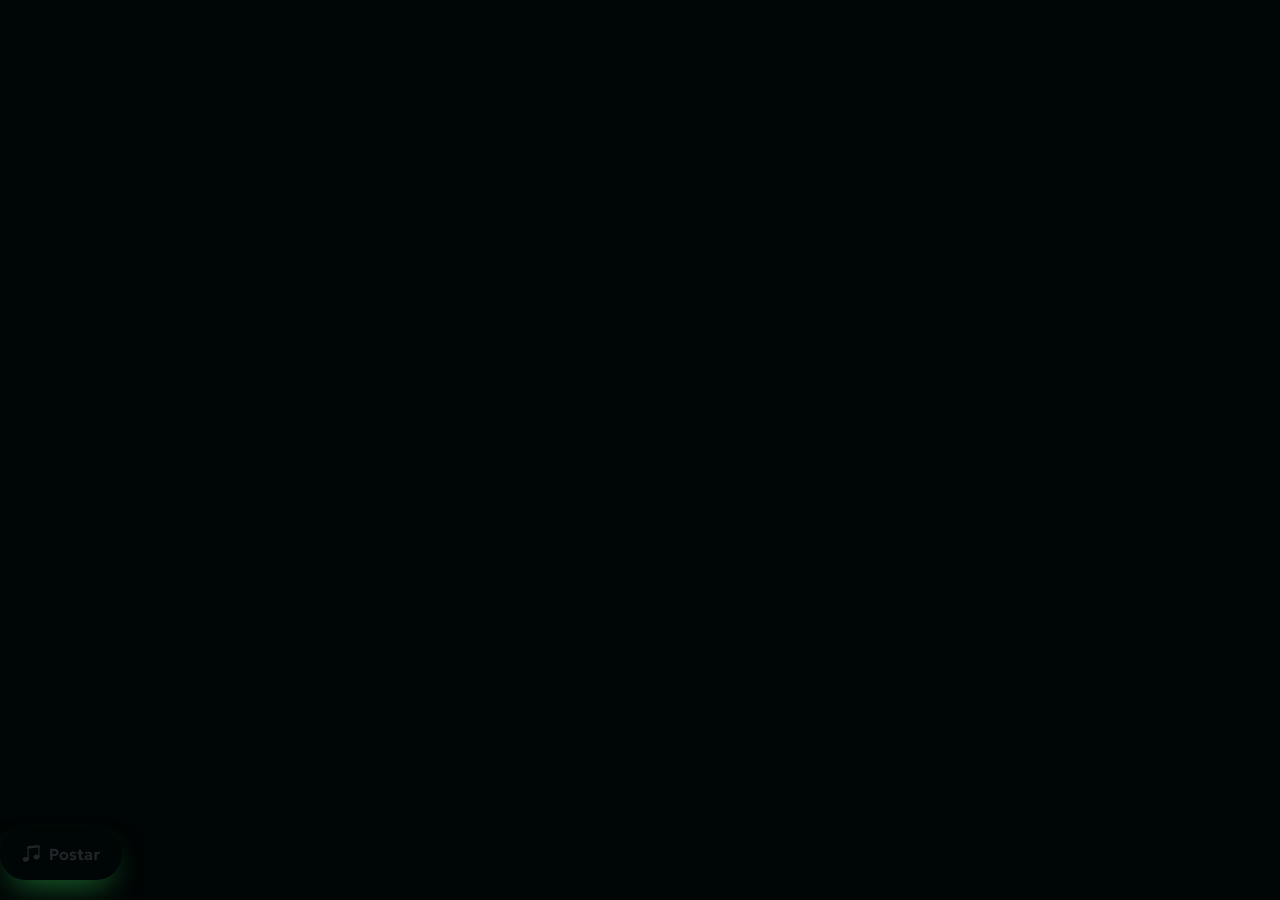
Test: CreatePost › publica só texto, sem música, fecha e avisa o feed
This screenshot has width=1280, height=900.
Click the button with aria-label "Criar post" at (61, 854), box [0, 828, 122, 880]
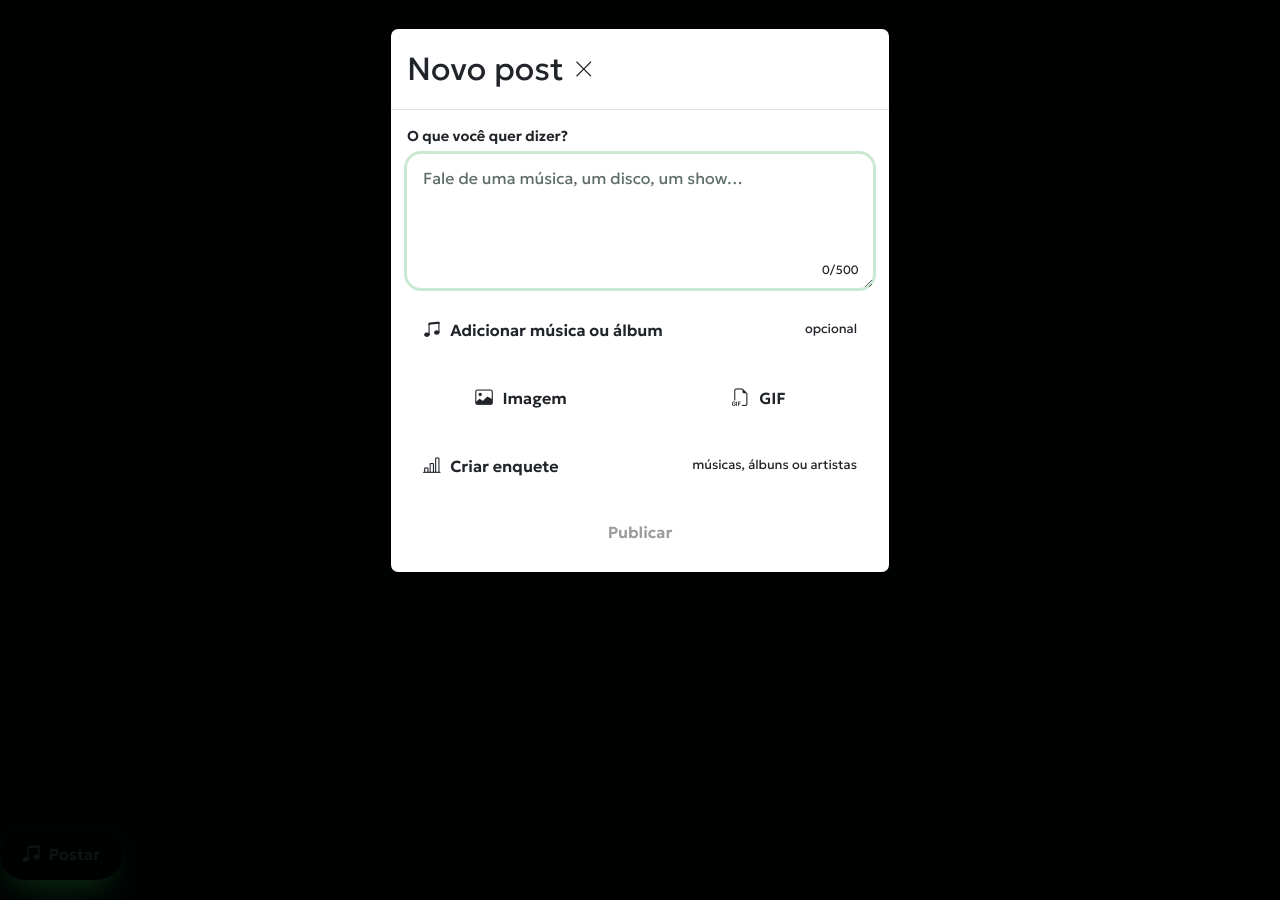
Type "  alguém vai no show sábado?  " into the text box labelled "O que você quer dizer?" at (640, 221), box [407, 154, 873, 288]
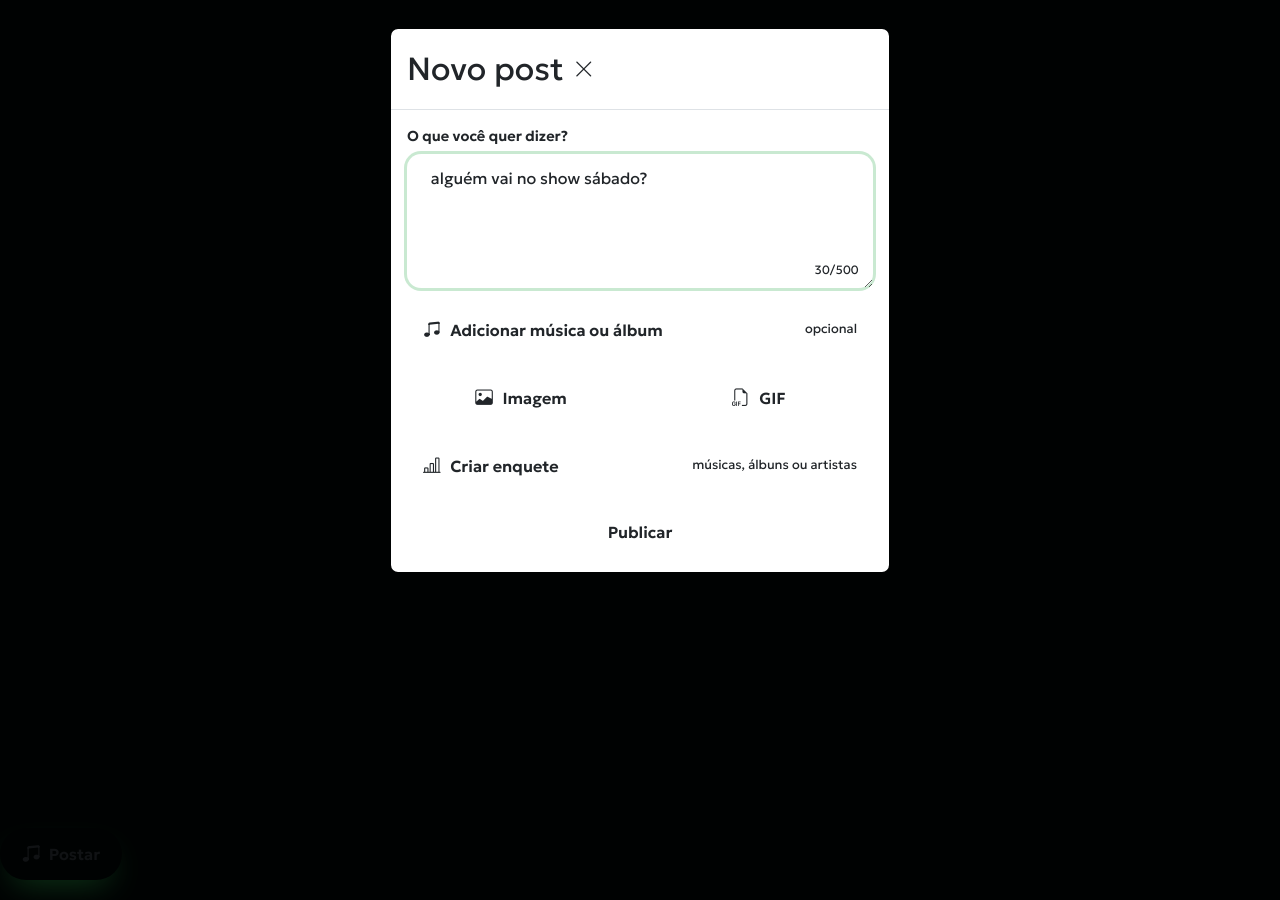
Click the button "Publicar" at (640, 532), box [407, 508, 873, 556]
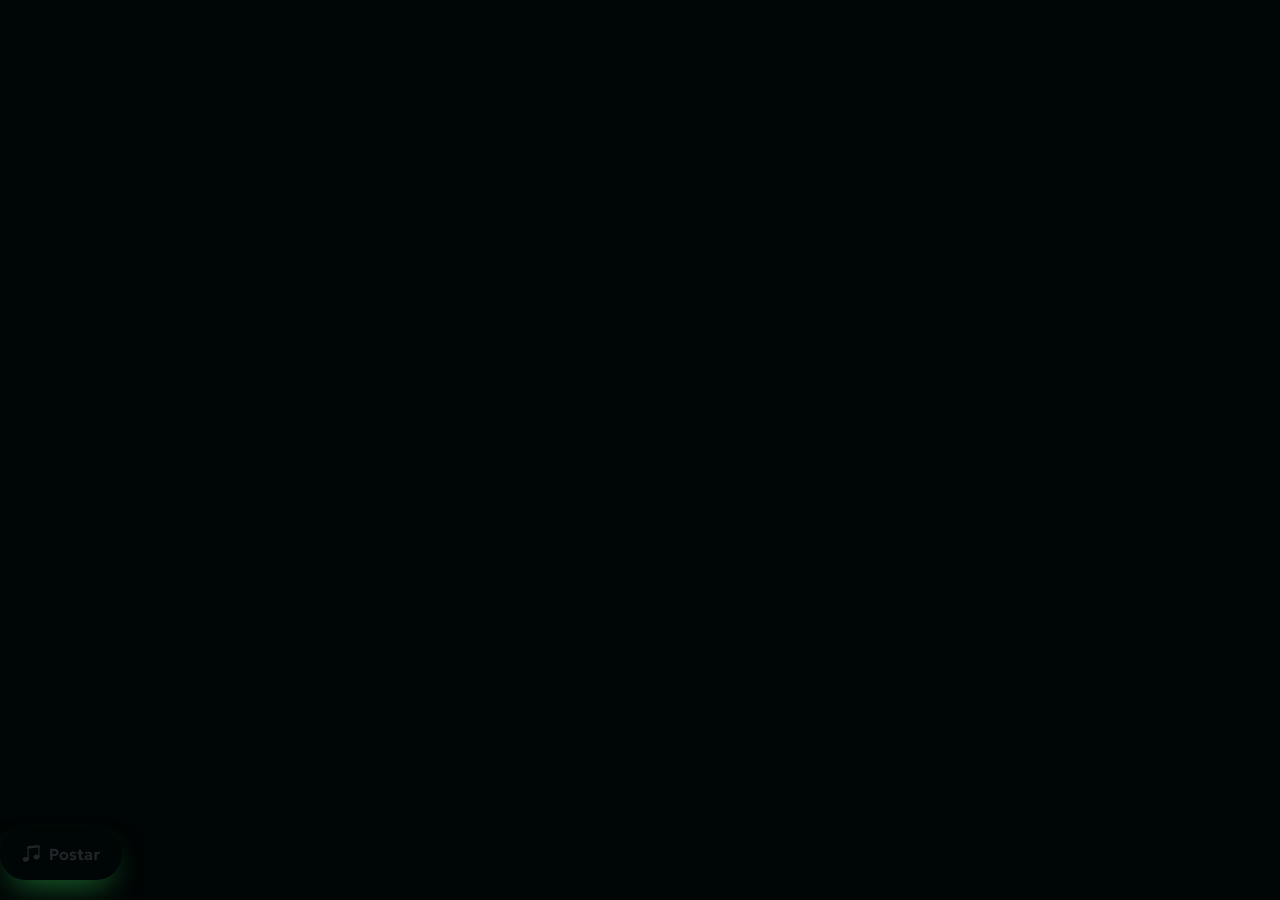
Now the dialog is gone
